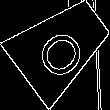O_NE: (29, 14, 93, 79)
